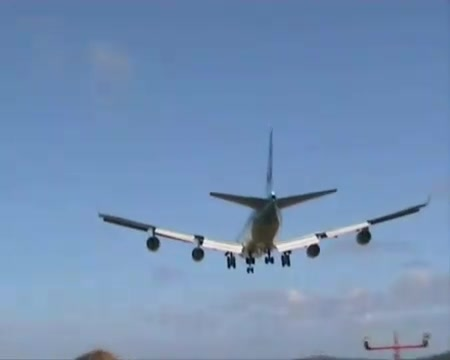aeroplane: (98, 128, 431, 276)
